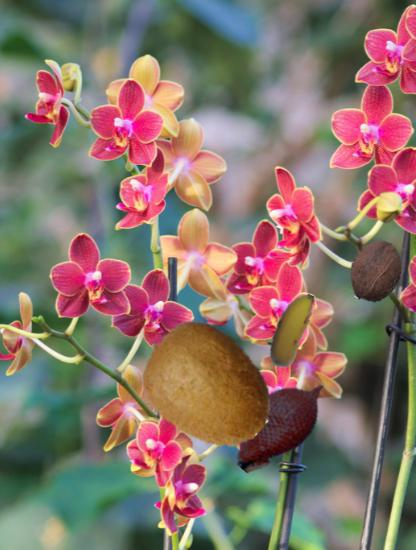Banana: (252, 290, 332, 370)
Cocos: (345, 240, 410, 305)
Kiwi: (138, 318, 276, 456)
Salak: (222, 367, 339, 484)
